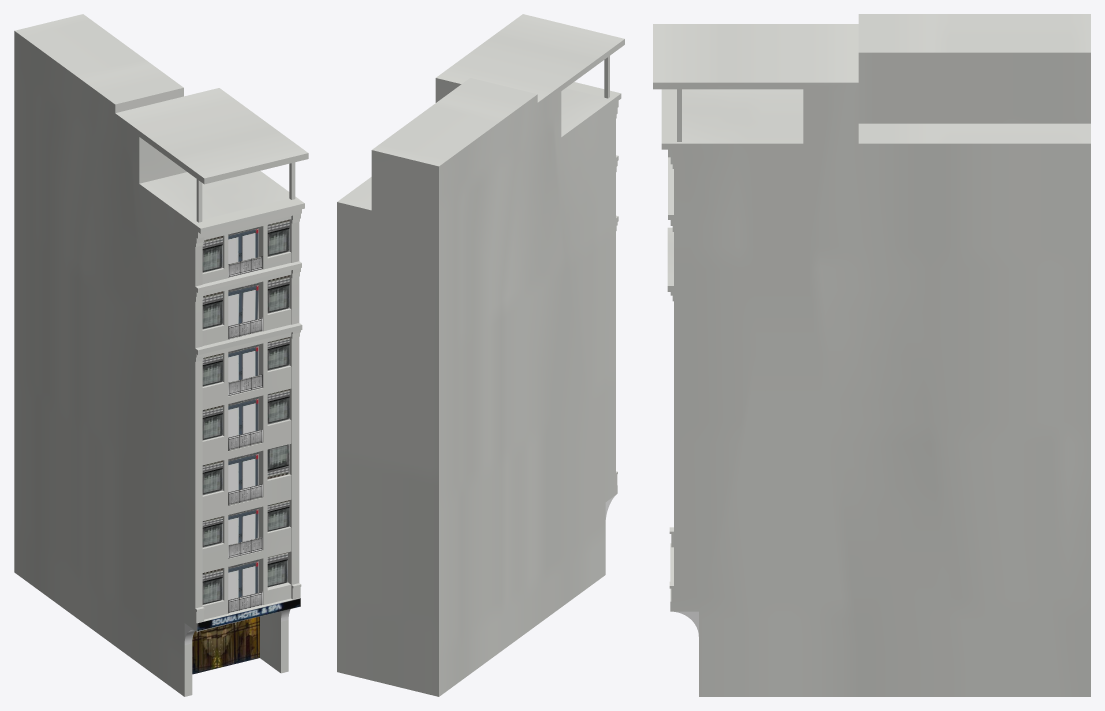
3 views of the same model, side by side, from view 1: azimuth 30°, elevation 25°; view 2: azimuth 150°, elevation 25°; view 3: azimuth 270°, elevation 25° (orthographic). The views are drawn at different scales.
Parts seen in each view (by area): view 1: Solaria_Hanoi_Hotel; view 2: Solaria_Hanoi_Hotel; view 3: Solaria_Hanoi_Hotel.
Boxes of the visible parts, x1,y1,x2,y2 form: Solaria_Hanoi_Hotel: (14, 14, 308, 696); Solaria_Hanoi_Hotel: (337, 14, 624, 696); Solaria_Hanoi_Hotel: (653, 14, 1090, 696).
Bounding box in the file's own units: 6.39 × 31.74 × 20.17.
1 material, 1 textured.
